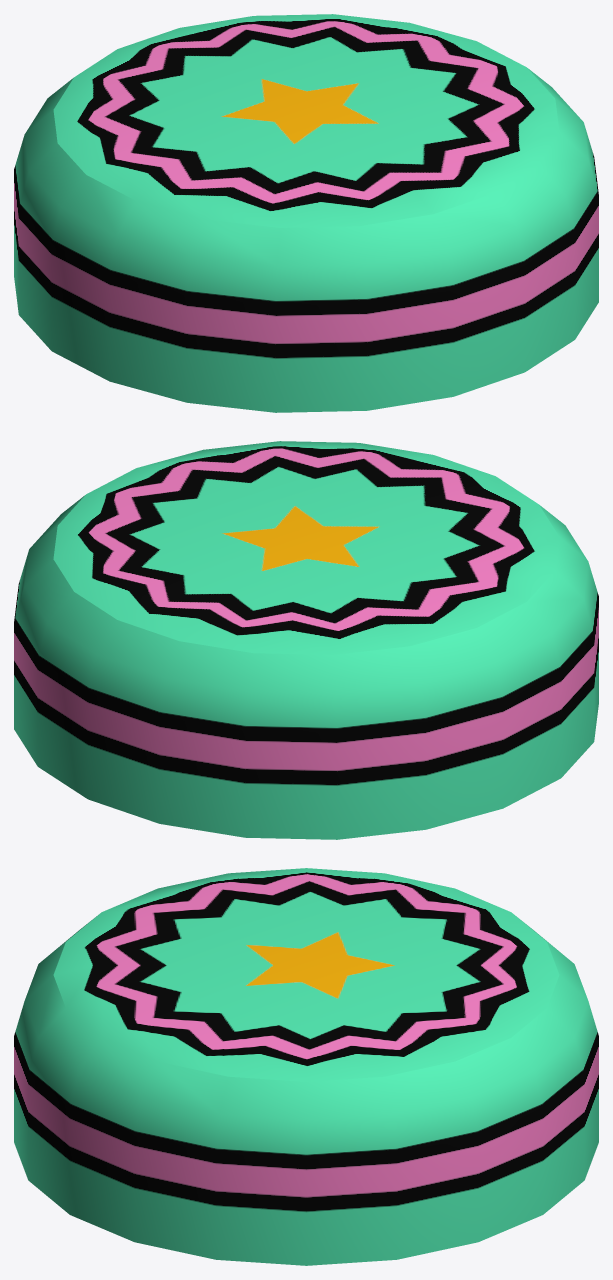
File: str_sphere.fbx
3 views of the same model, one above another, from view 1: azimuth 30°, elevation 25°; view 2: azimuth 150°, elevation 25°; view 3: azimuth 270°, elevation 25° (orthographic).
Parts seen in each view (by area): view 1: star_sphere; view 2: star_sphere; view 3: star_sphere.
Boxes of the visible parts, box(x1,y1,x2,y2) form: star_sphere: box(14, 14, 598, 412); star_sphere: box(14, 441, 598, 839); star_sphere: box(14, 868, 598, 1265).
Bounding box in the file's own units: 6 × 2 × 6.
Materials: 1 (1 with a texture image).
